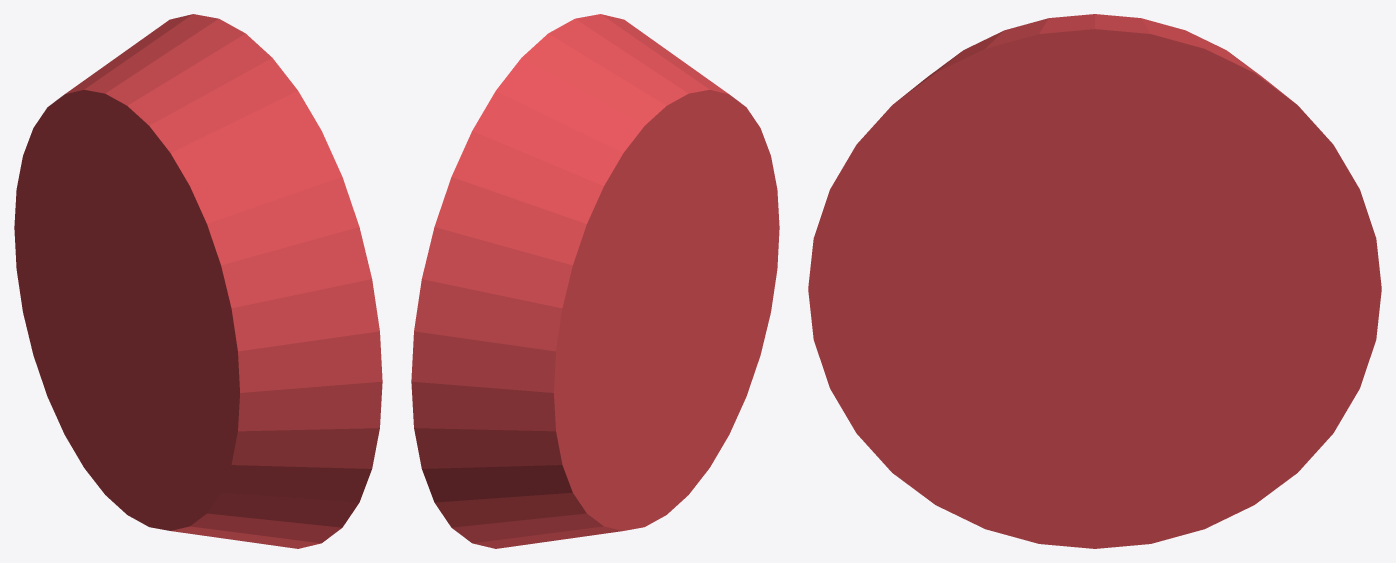
File: red_button.glb
3 views of the same model, side by side, from view 1: azimuth 30°, elevation 25°; view 2: azimuth 150°, elevation 25°; view 3: azimuth 270°, elevation 25° (orthographic). The views are drawn at different scales.
Parts seen in each view (by area): view 1: Cylinder; view 2: Cylinder; view 3: Cylinder.
Part boxes in pixels (x1,y1,x2,y2): Cylinder: [14, 14, 382, 548]; Cylinder: [411, 14, 779, 548]; Cylinder: [808, 14, 1381, 548].
Bounding box in the file's own units: 0.125 × 0.5 × 0.5.
